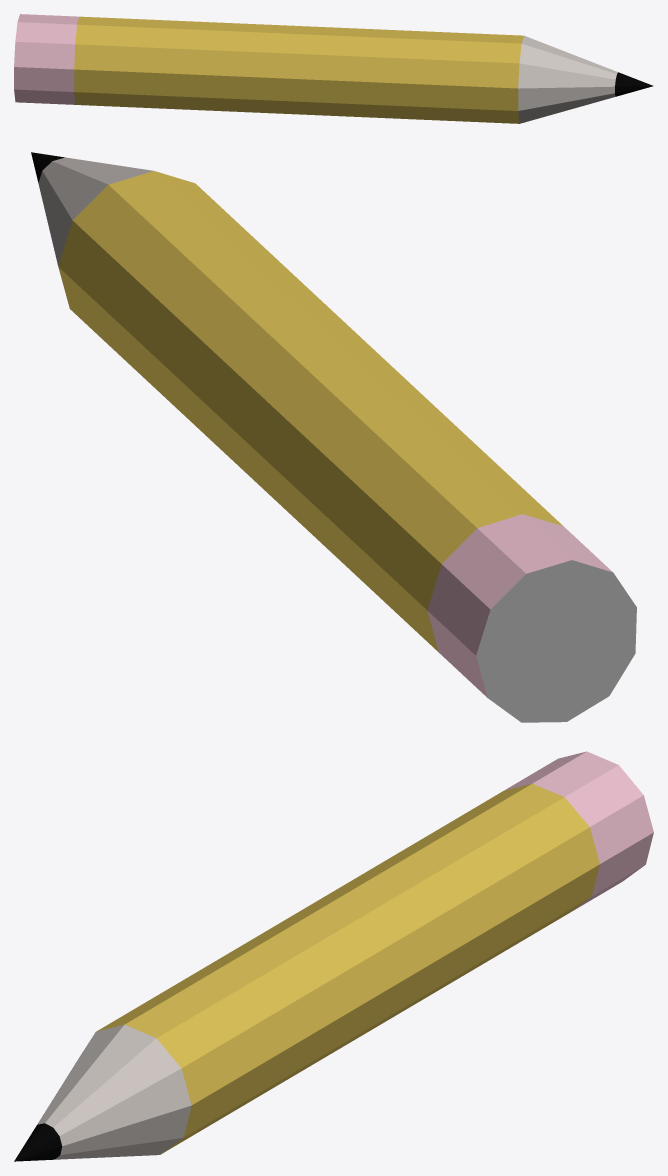
File: SU_yellowpen.fbx
3 renders of one model, top to bottom at view 1: azimuth 30°, elevation 25°; view 2: azimuth 150°, elevation 25°; view 3: azimuth 270°, elevation 25°, orthographic. The views are drawn at different scales.
Visible parts, largest first — view 1: pasted__pasted__pCylinder3; view 2: pasted__pasted__pCylinder3; view 3: pasted__pasted__pCylinder3.
Boxes of the visible parts, x1=… form: pasted__pasted__pCylinder3: x1=14, y1=14, x2=653, y2=123; pasted__pasted__pCylinder3: x1=31, y1=152, x2=636, y2=722; pasted__pasted__pCylinder3: x1=14, y1=751, x2=653, y2=1161.
Size of the model in its own units: 0.6811 by 0.1118 by 0.5114.
